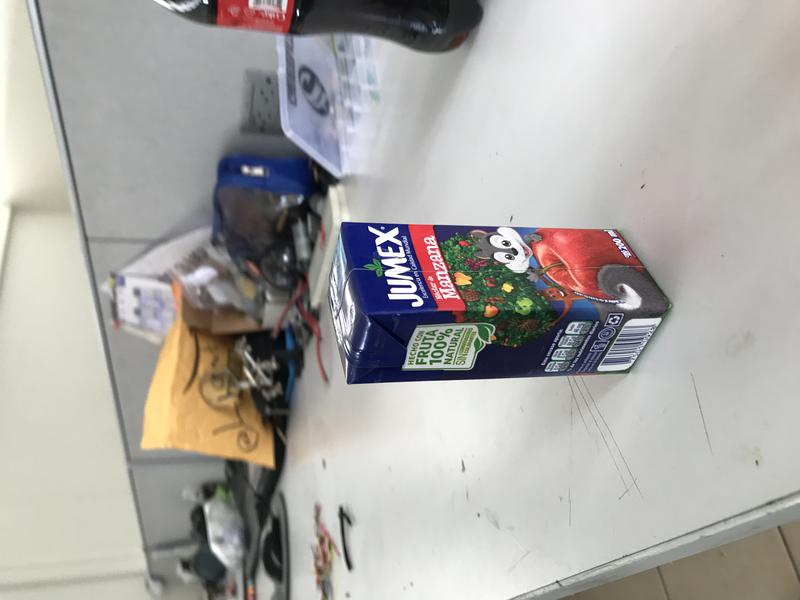jumex_cajita: (327, 222, 671, 386)
